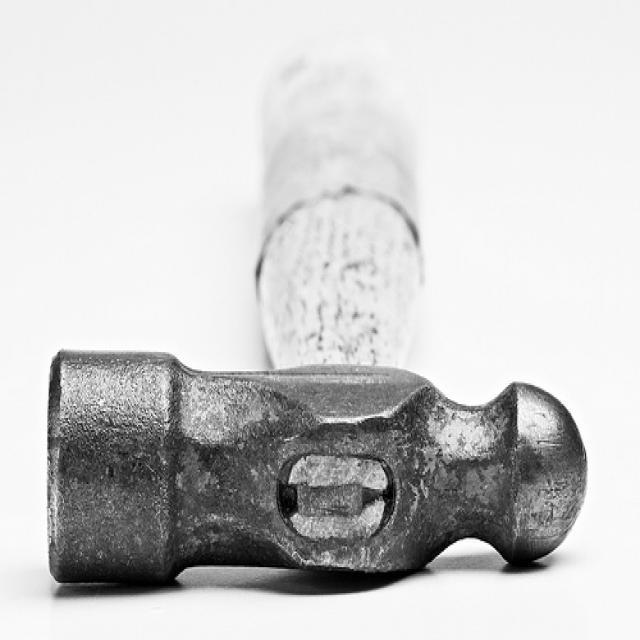hammer: (38, 14, 596, 602)
